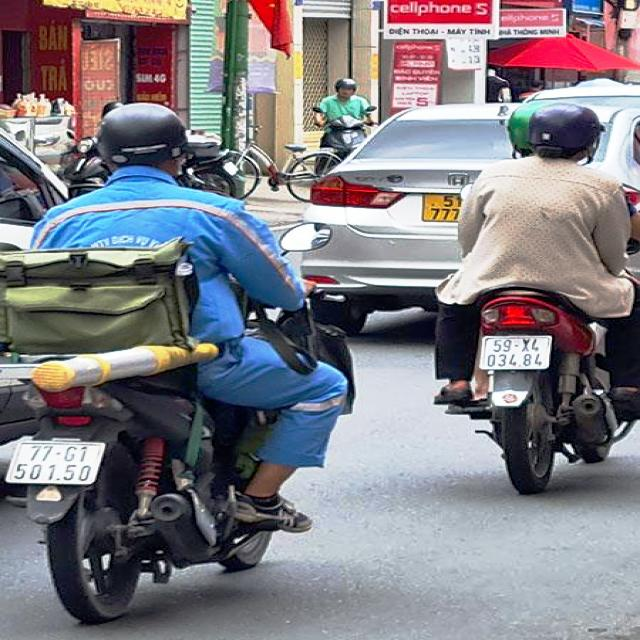license_plate: (5, 443, 104, 485), (481, 337, 553, 370)
